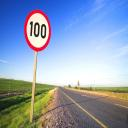speed_limit_100: (24, 8, 51, 53)
